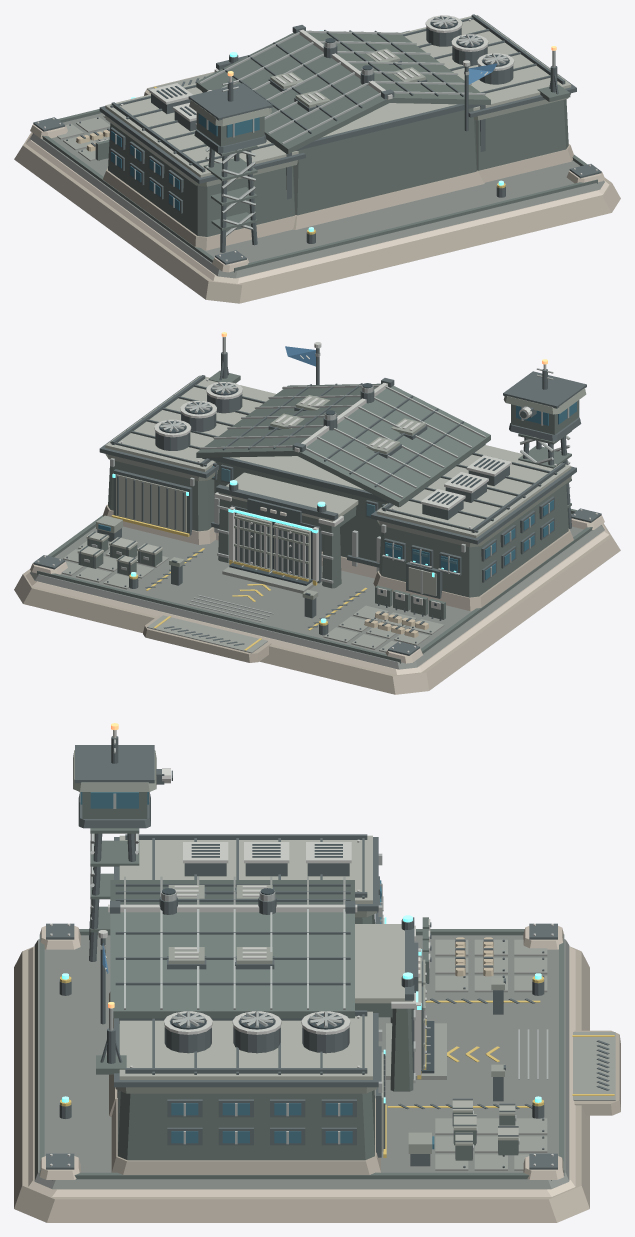
Rendered from sandforge_kaserne_geschlossen.glb.
3 renders of one model, top to bottom at view 1: azimuth 30°, elevation 25°; view 2: azimuth 150°, elevation 25°; view 3: azimuth 270°, elevation 25°, orthographic. The views are drawn at different scales.
Parts seen in each view (by area): view 1: static__olive_dark, static__foundation, static__steel_dark, static__deck, static__olive_light, static__steel, static__concrete_high, static__olive, static__steel_light, static__glass_dark, static__deck_light, static__recess; view 2: static__olive_dark, static__steel_dark, static__deck, static__olive_light, static__foundation, static__steel, static__deck_light, static__steel_light, static__concrete_high, static__olive, static__glass_dark, static__recess (+6 smaller); view 3: static__olive_dark, static__deck, static__steel_dark, static__foundation, static__olive_light, static__deck_light, static__concrete_high, static__steel_light, static__steel, static__olive, static__glass_dark, static__recess (+2 smaller).
Boxes of the visible parts, box(x1,y1,x2,y2) form: static__olive_dark: box(42, 30, 597, 272); static__foundation: box(14, 71, 620, 303); static__steel_dark: box(33, 14, 601, 264); static__deck: box(30, 113, 604, 278); static__olive_light: box(105, 15, 571, 177); static__steel: box(115, 15, 555, 236); static__concrete_high: box(25, 124, 609, 283); static__olive: box(105, 48, 570, 186); static__steel_light: box(37, 15, 597, 261); static__glass_dark: box(111, 113, 259, 210); static__deck_light: box(57, 72, 214, 161); static__recess: box(156, 16, 508, 115); static__olive_dark: box(37, 370, 592, 663); static__steel_dark: box(33, 348, 601, 655); static__deck: box(30, 513, 604, 669); static__olive_light: box(77, 375, 571, 596); static__foundation: box(14, 504, 620, 694); static__steel: box(84, 337, 570, 621); static__deck_light: box(61, 541, 444, 653); static__steel_light: box(37, 342, 597, 652); static__concrete_high: box(26, 515, 609, 674); static__olive: box(96, 388, 586, 599); static__glass_dark: box(98, 401, 576, 579); static__recess: box(159, 383, 504, 606); static__olive_dark: box(39, 792, 564, 1180); static__deck: box(34, 935, 569, 1189); static__steel_dark: box(46, 736, 609, 1169); static__foundation: box(14, 922, 620, 1222); static__olive_light: box(119, 835, 518, 1151); static__deck_light: box(386, 939, 615, 1170); static__concrete_high: box(28, 926, 575, 1196); static__steel_light: box(50, 730, 553, 1166); static__steel: box(79, 739, 548, 1150); static__olive: box(73, 750, 504, 1153); static__glass_dark: box(80, 792, 434, 1149); static__recess: box(162, 844, 434, 1073).
Size of the model in its own units: 20.2 by 9.14 by 19.23.
